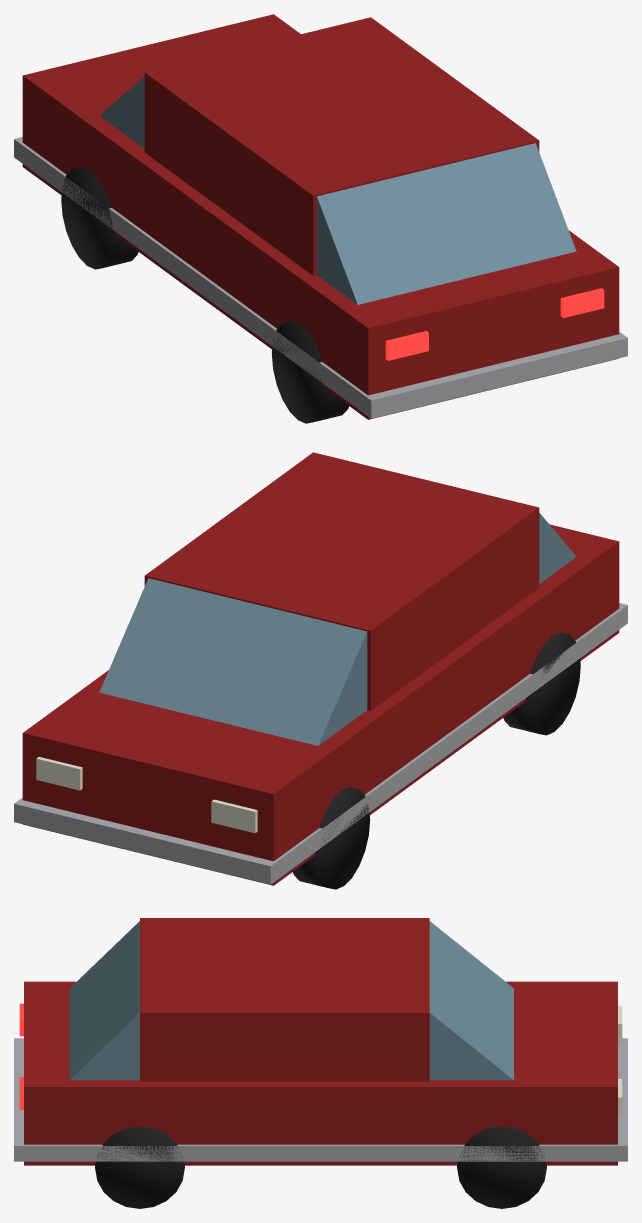
The model's file is Car0.fbx.
The picture shows the model from 3 angles, top to bottom: view 1: azimuth 30°, elevation 25°; view 2: azimuth 150°, elevation 25°; view 3: azimuth 270°, elevation 25°; orthographic projection. The views are drawn at different scales.
Parts seen in each view (by area): view 1: Body, Cabin, RearScreen, Bumpers, Wheel-10, Wheel-11, Windscreen, Taillamp1, Taillamp-1; view 2: Body, Cabin, Windscreen, Bumpers, Wheel-10, Wheel-11, RearScreen, Headlamp-1, Headlamp1; view 3: Body, Cabin, Bumpers, Windscreen, RearScreen, Wheel10, Wheel11.
Boxes of the visible parts, x1,y1,x2,y2 form: Body: (22, 14, 619, 419); Cabin: (144, 17, 539, 275); RearScreen: (317, 143, 576, 304); Bumpers: (14, 137, 627, 418); Wheel-10: (61, 167, 138, 269); Wheel-11: (271, 321, 348, 423); Windscreen: (99, 76, 144, 148); Taillamp1: (560, 288, 604, 317); Taillamp-1: (385, 331, 428, 360); Body: (22, 524, 619, 885); Cabin: (144, 452, 539, 710); Windscreen: (99, 578, 367, 745); Bumpers: (14, 603, 627, 884); Wheel-10: (293, 787, 370, 889); Wheel-11: (503, 633, 580, 735); RearScreen: (539, 513, 576, 583); Headlamp-1: (211, 799, 257, 833); Headlamp1: (36, 757, 82, 790); Body: (24, 981, 617, 1165); Cabin: (140, 918, 429, 1081); Bumpers: (14, 1038, 627, 1161); Windscreen: (429, 921, 513, 1080); RearScreen: (69, 921, 139, 1080); Wheel10: (457, 1126, 546, 1208); Wheel11: (95, 1126, 184, 1208).
Size of the model in its own units: 176 by 424 by 144.
